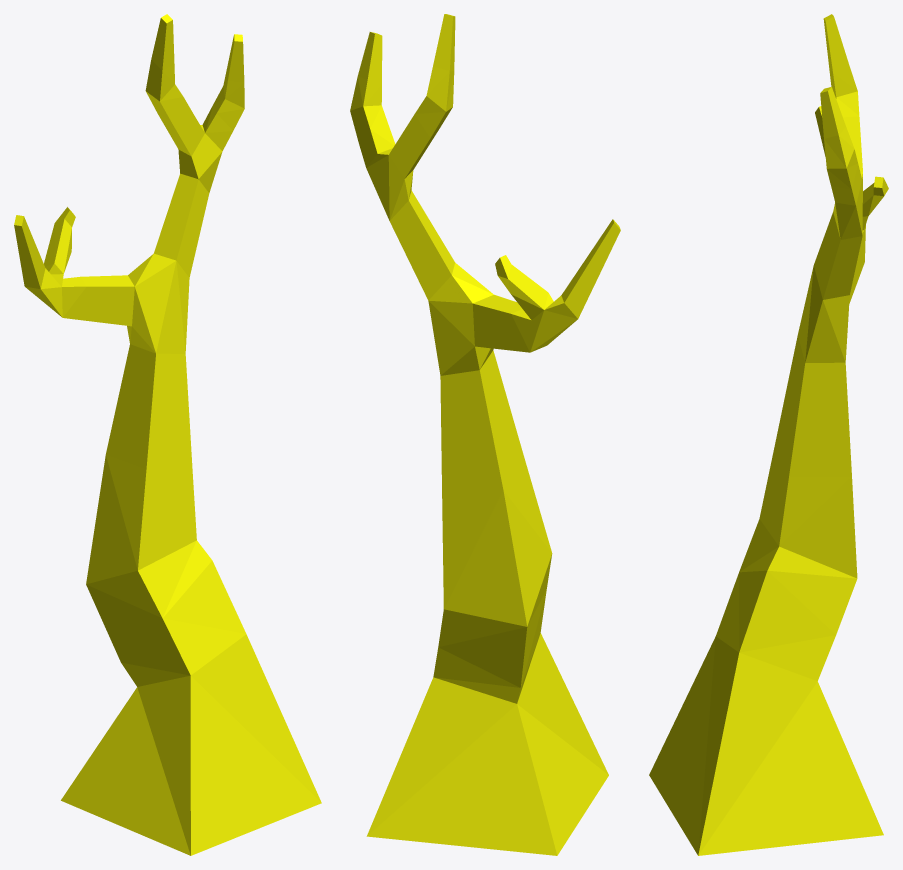
The model's file is tree_dead01.glb.
3 renders of one model, left to right at view 1: azimuth 30°, elevation 25°; view 2: azimuth 150°, elevation 25°; view 3: azimuth 270°, elevation 25°, orthographic. The views are drawn at different scales.
Parts seen in each view (by area): view 1: tree_dead01; view 2: tree_dead01; view 3: tree_dead01.
Part boxes in pixels (x1=…): tree_dead01: x1=14, y1=14, x2=321, y2=855; tree_dead01: x1=350, y1=14, x2=620, y2=855; tree_dead01: x1=649, y1=14, x2=888, y2=855.
Bounding box in the file's own units: 2.47 × 7.24 × 1.98.
1 material, 1 textured.
